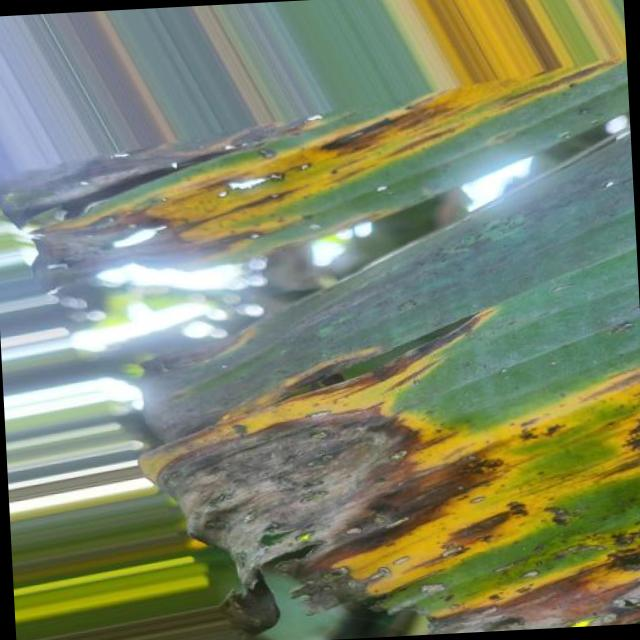Banana_Black_Sigatoka: (106, 295, 640, 640), (10, 120, 492, 288)
